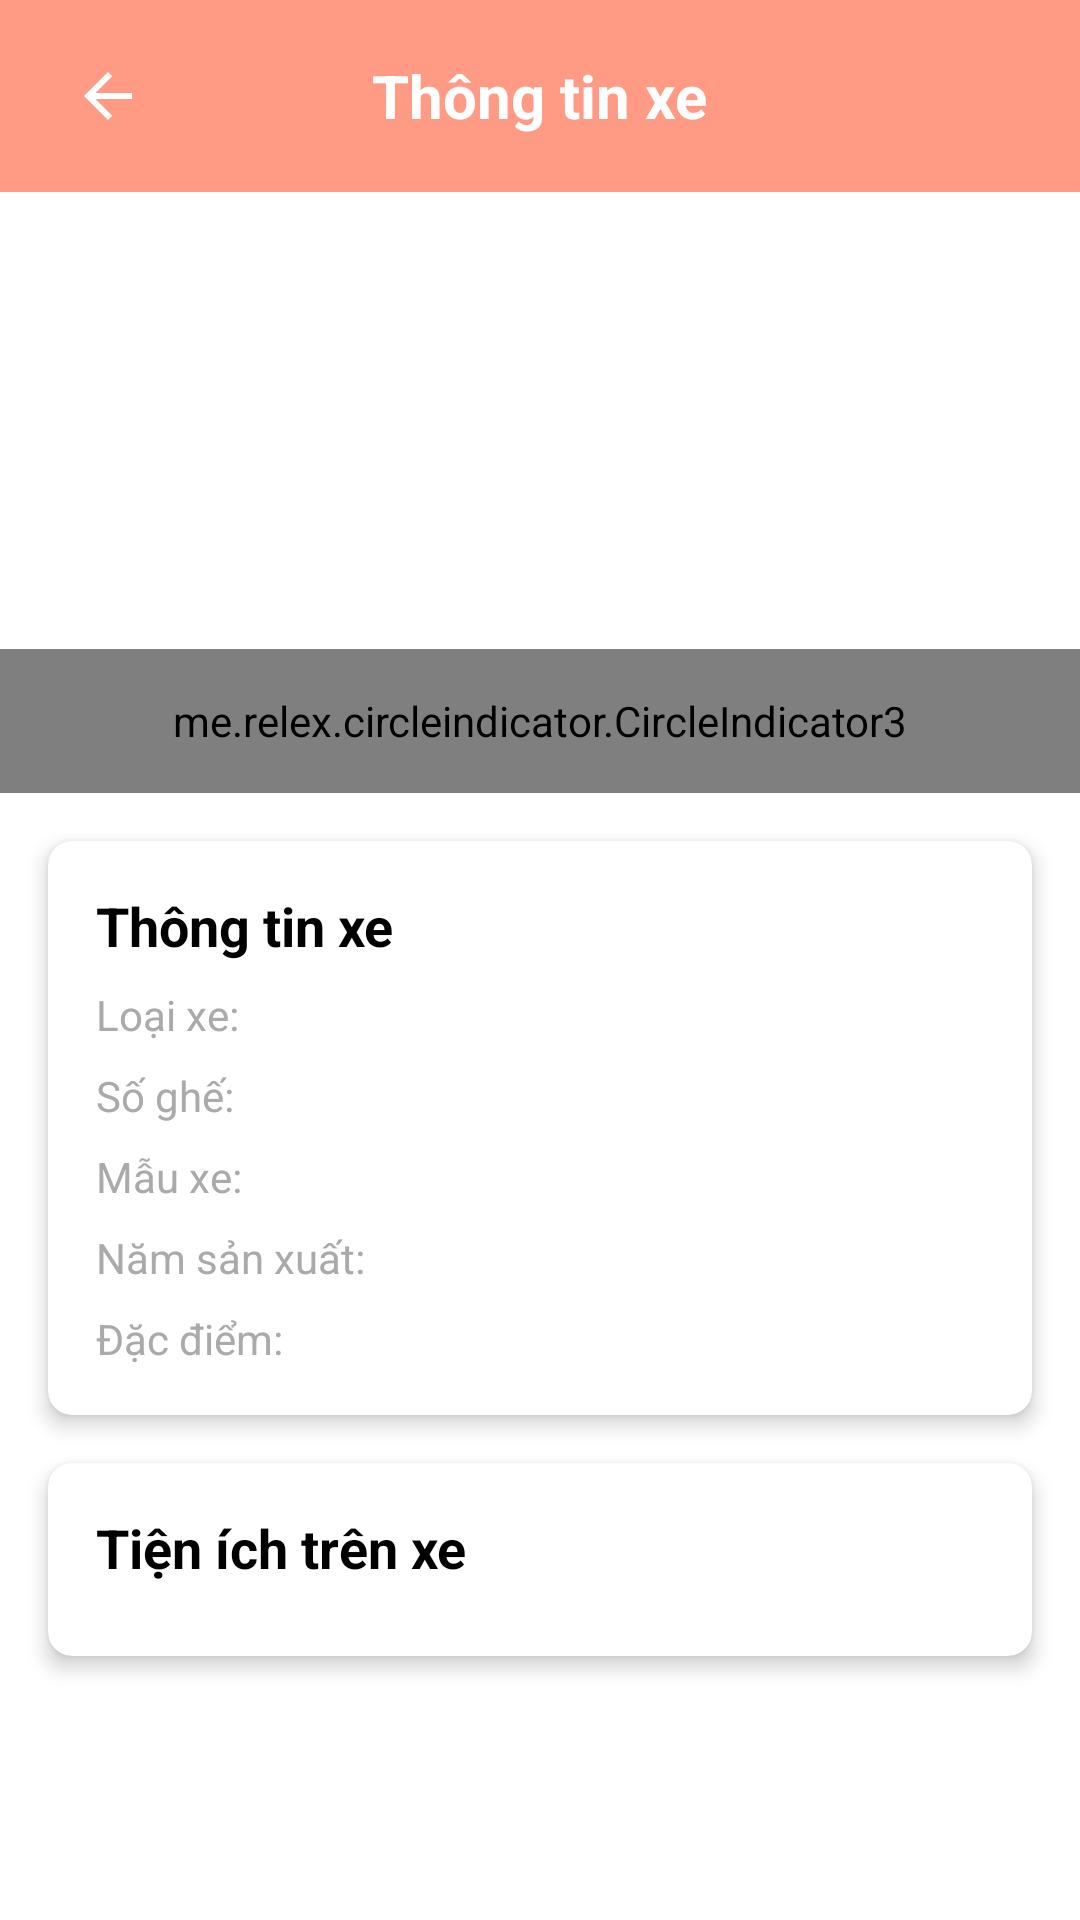

Where icons sit on this 1080*1920 app screen, as detection(x1, y1, x2, y2):
arrow back: detection(84, 72, 132, 120)
